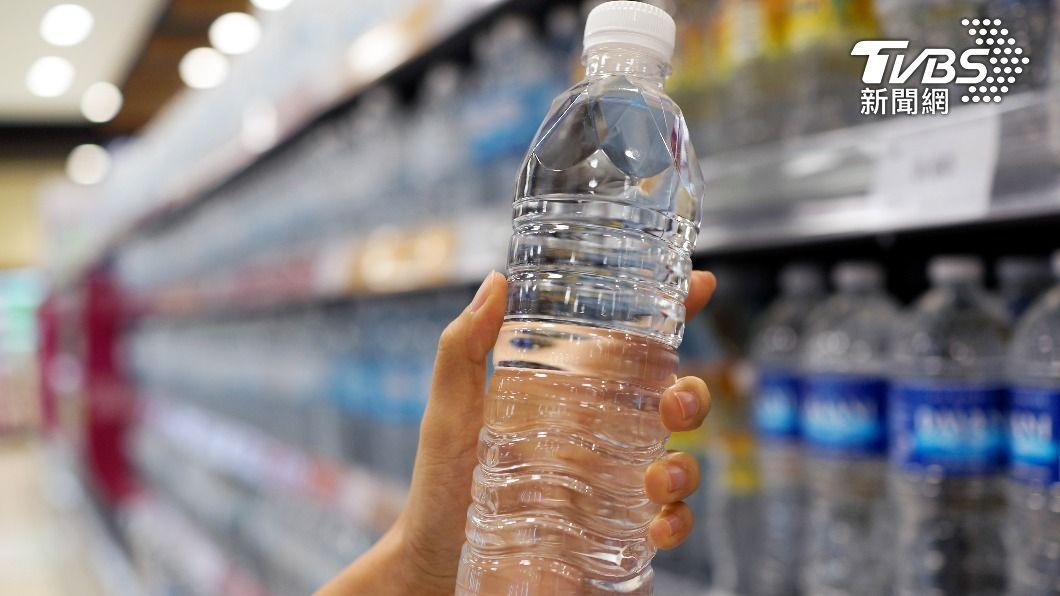bottle: (0, 0, 154, 298)
